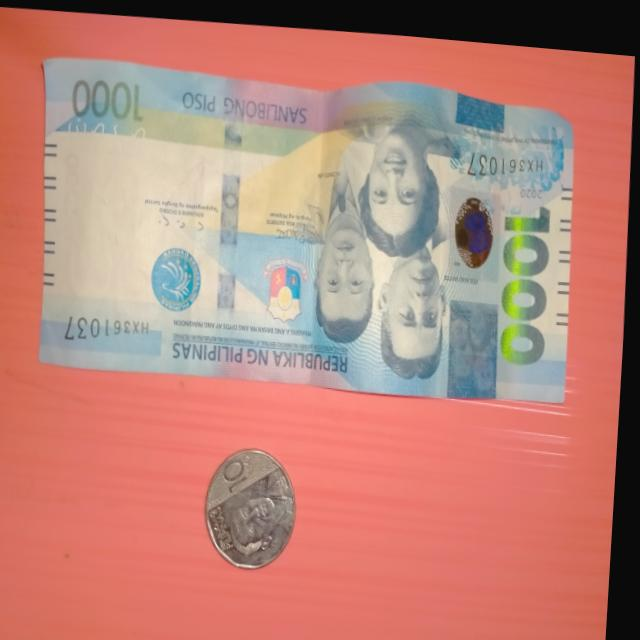concealed_value: (448, 283, 503, 392)
optically_variable_device: (446, 173, 508, 276)
see_through_mark: (65, 107, 155, 155)
value: (493, 185, 564, 358)
value_watermark: (63, 144, 88, 220)
watermark: (66, 142, 180, 325)
